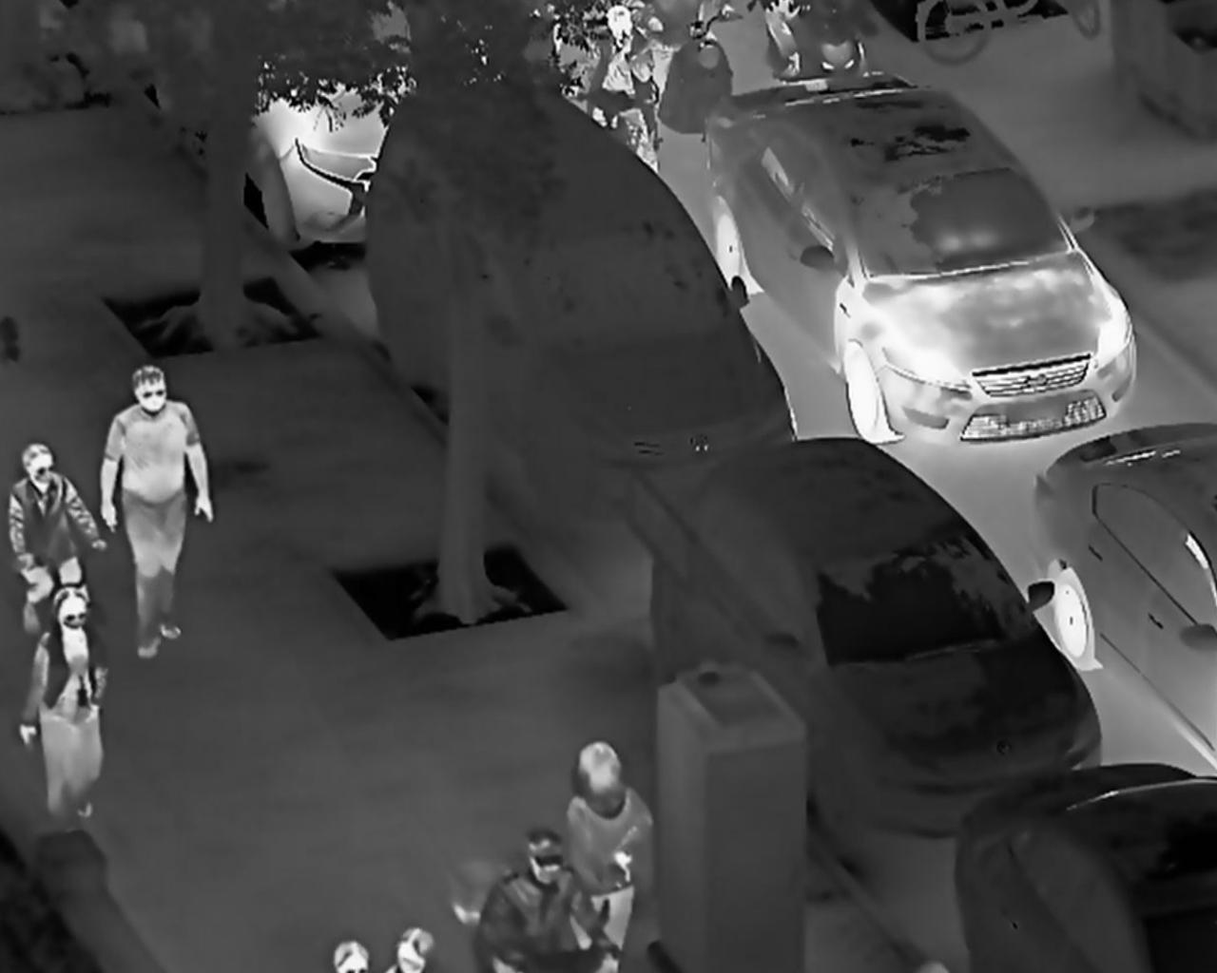person: (96, 365, 217, 663), (559, 736, 658, 973), (474, 824, 628, 973), (19, 584, 110, 824), (7, 442, 110, 638), (580, 8, 664, 176)
